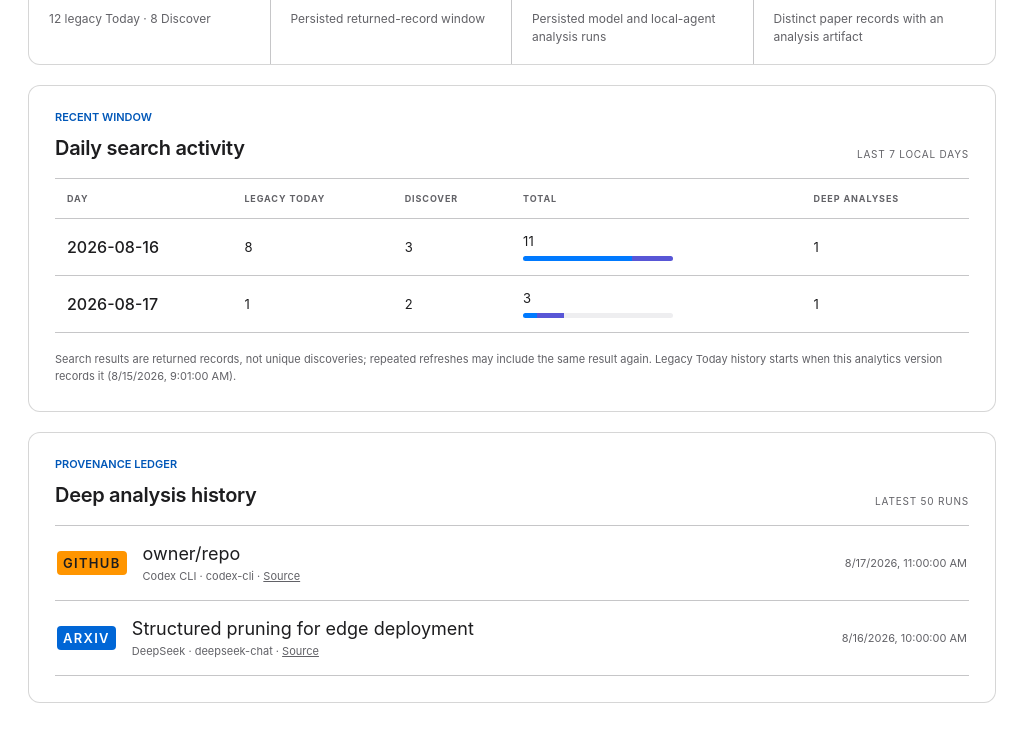
Test: DataAnalyticsView › shows separated daily search volume and the analyzed-item history
(page scrolled)
Expected: the element labelled "Lifetime returned records" shows "12 legacy Today · 8 Discover", [49, 11, 211, 26]
Expected: the element labelled "Last 7 local days" shows "Persisted returned-record window", [290, 11, 485, 26]
Click the button with aria-label "Open analysis: owner/repo" at [191, 553], box [142, 543, 240, 564]
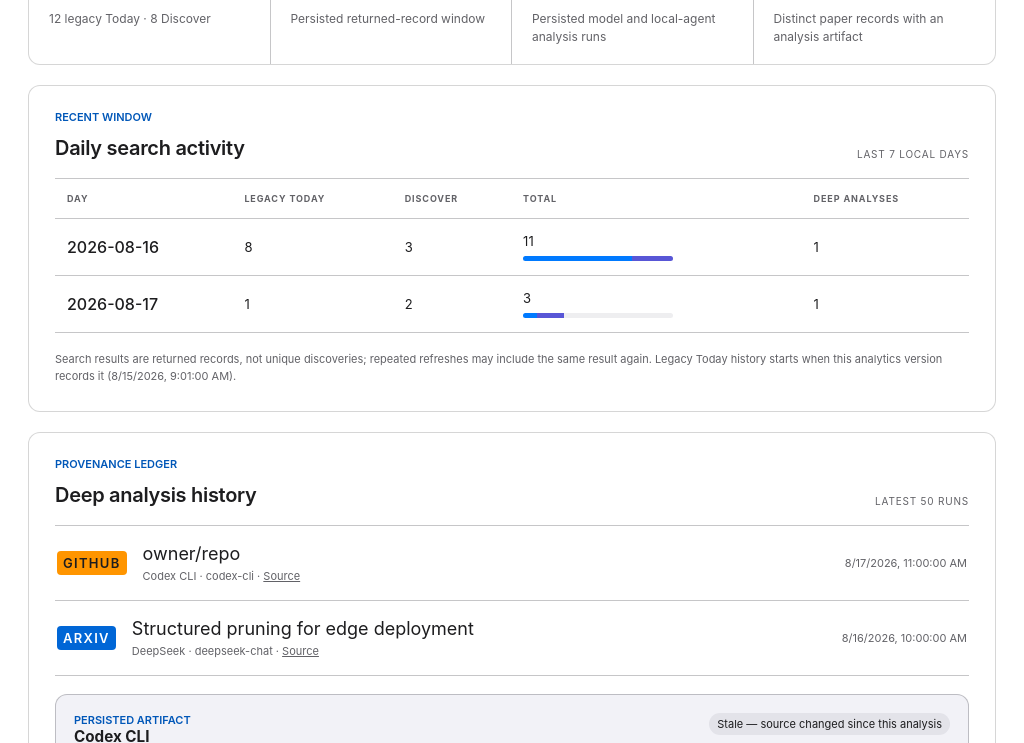
Expected: the text "Stale — source changed since this analysis" is shown, [709, 713, 950, 735]
